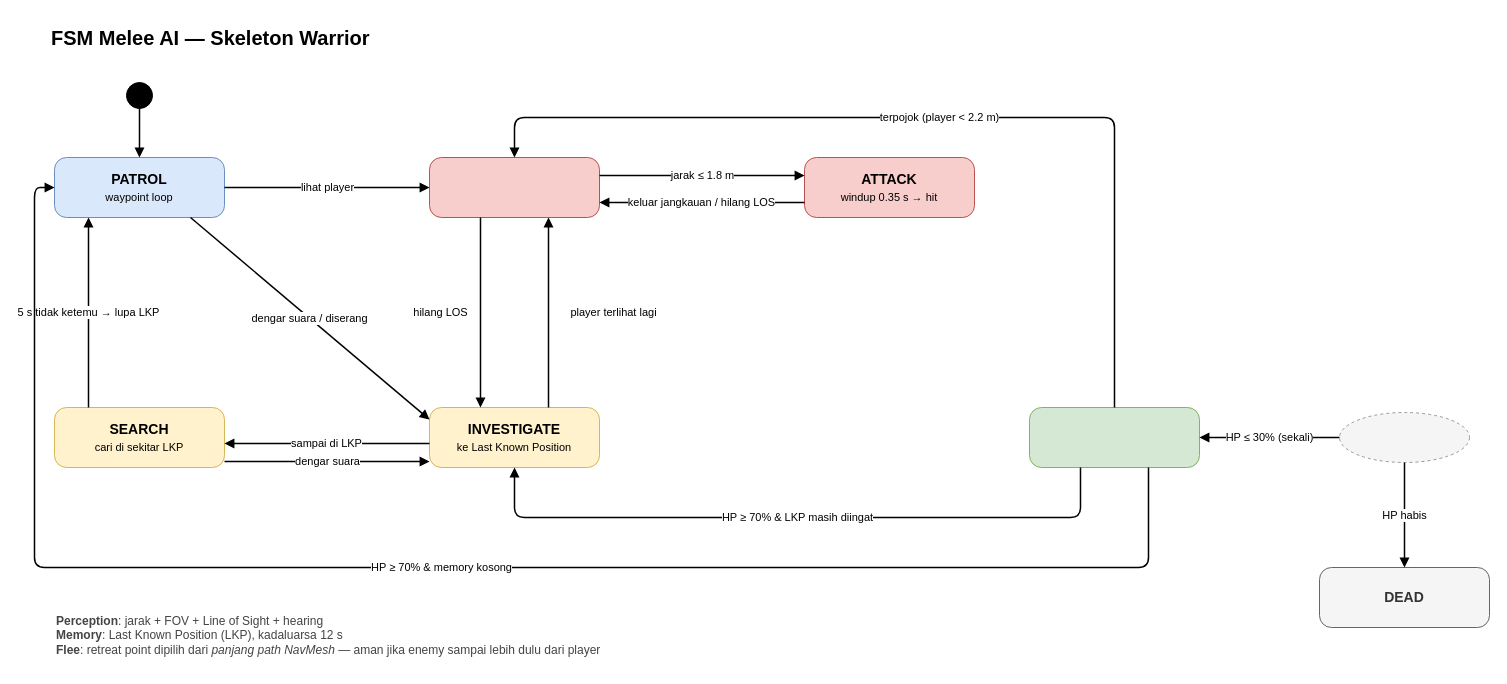
The diagram is 1507 pixels wide and 684 high, and some of its shapes have lost their labels. The shapes that lost their labels are listed below. From the top down, each one's centre as x and y in pixels, then its label:
point (514, 187): CHASE kejar player
point (1114, 437): FLEE ke Retreat Point teraman, regen
point (1404, 437): state apa pun
